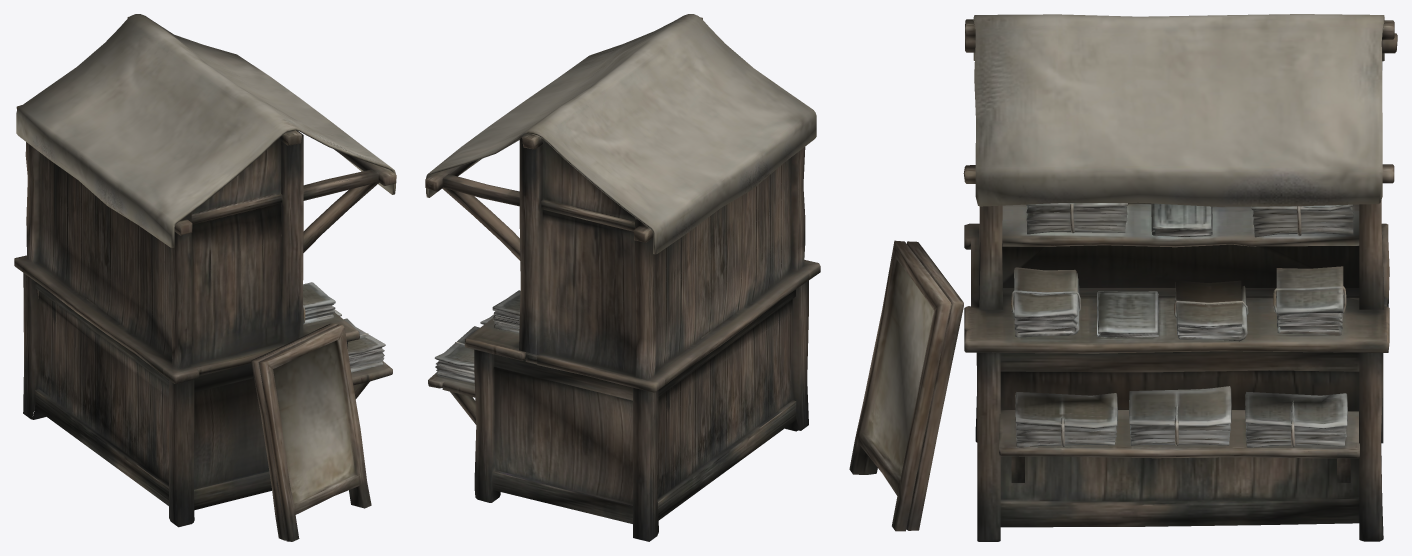
The model's file is SM_Env_SohoNewspaperStand.fbx.
3 renders of one model, left to right at view 1: azimuth 30°, elevation 25°; view 2: azimuth 150°, elevation 25°; view 3: azimuth 270°, elevation 25°, orthographic. The views are drawn at different scales.
Parts seen in each view (by area): view 1: SM_Env_SohoNewspaperStand; view 2: SM_Env_SohoNewspaperStand; view 3: SM_Env_SohoNewspaperStand.
Part boxes in pixels (x1,y1,x2,y2): SM_Env_SohoNewspaperStand: (14,14,396,541); SM_Env_SohoNewspaperStand: (425,14,820,541); SM_Env_SohoNewspaperStand: (849,14,1397,541).
Bounding box in the file's own units: 27.72 × 42.62 × 42.
Materials: 1 (1 with a texture image).
